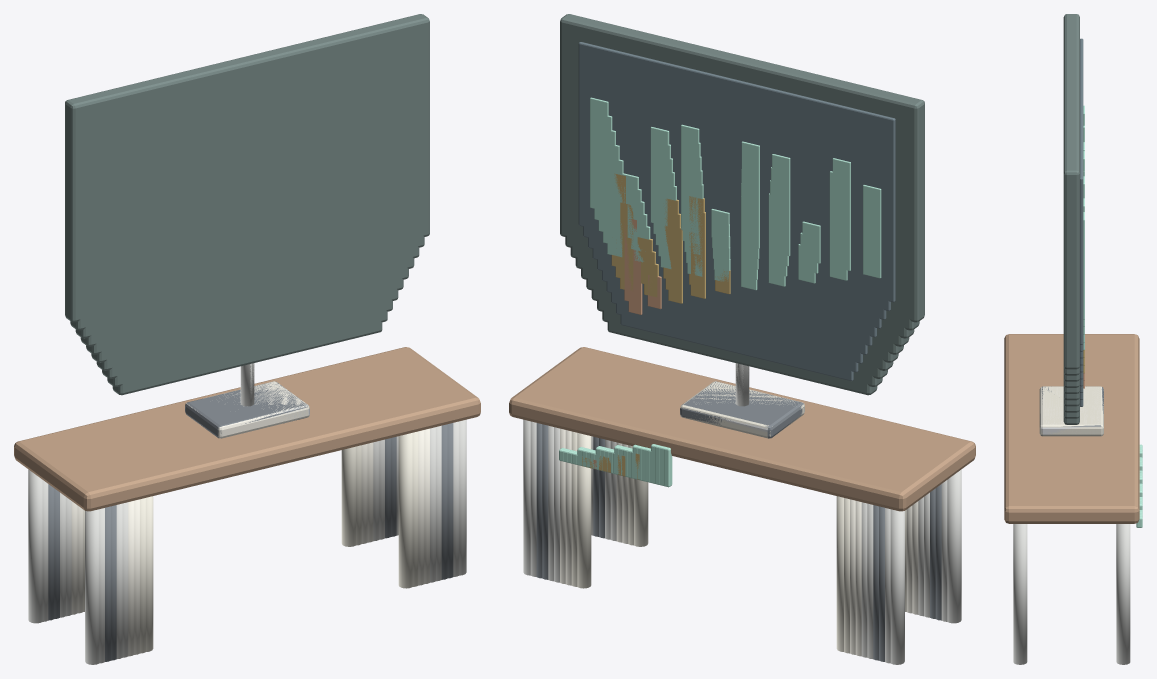
Rendered from Gear04.fbx.
3 renders of one model, left to right at view 1: azimuth 30°, elevation 25°; view 2: azimuth 150°, elevation 25°; view 3: azimuth 270°, elevation 25°, orthographic. The views are drawn at different scales.
Parts seen in each view (by area): view 1: Gear04_V10_Ink, Gear04_V3_Ink, Gear04_V6_Ink, Gear04_V7_Wood, Gear04_V1_Ink, Gear04_V3_Wood, Gear04_V8_Ink, Gear04_V10_Wood, Gear04_V4_Ink, Gear04_V8_Graphite, Gear04_V10_Chrome, Gear04_V7_Ink (+16 smaller); view 2: Gear04_V10_Glass, Gear04_V10_Ink, Gear04_V6_Glass, Gear04_V2_Glass, Gear04_V10_Glow, Gear04_V4_Wood, Gear04_V9_Glass, Gear04_V1_Glass, Gear04_V7_Wood, Gear04_V8_Wood, Gear04_V10_Wood, Gear04_V7_Graphite (+34 smaller); view 3: Gear04_V3_Wood, Gear04_V10_Ink, Gear04_V10_Wood, Gear04_V1_Wood, Gear04_V7_Wood, Gear04_V10_Chrome, Gear04_V2_Wood, Gear04_V6_Wood, Gear04_V4_Wood, Gear04_V5_Wood, Gear04_V9_Wood, Gear04_V2_Ivory (+6 smaller).
Part boxes in pixels (x1=…): Gear04_V10_Ink: x1=65, y1=14, x2=429, y2=322; Gear04_V3_Ink: x1=102, y1=142, x2=392, y2=378; Gear04_V6_Ink: x1=86, y1=121, x2=408, y2=354; Gear04_V7_Wood: x1=37, y1=351, x2=460, y2=503; Gear04_V1_Ink: x1=112, y1=187, x2=382, y2=395; Gear04_V3_Wood: x1=59, y1=366, x2=434, y2=500; Gear04_V8_Ink: x1=75, y1=56, x2=419, y2=338; Gear04_V10_Wood: x1=14, y1=347, x2=480, y2=511; Gear04_V4_Ink: x1=96, y1=125, x2=398, y2=370; Gear04_V8_Graphite: x1=48, y1=381, x2=453, y2=661; Gear04_V10_Chrome: x1=28, y1=366, x2=466, y2=664; Gear04_V7_Ink: x1=80, y1=74, x2=414, y2=346; Gear04_V10_Glass: x1=578, y1=42, x2=895, y2=302; Gear04_V10_Ink: x1=560, y1=14, x2=924, y2=322; Gear04_V6_Glass: x1=597, y1=113, x2=876, y2=337; Gear04_V2_Glass: x1=616, y1=181, x2=858, y2=372; Gear04_V10_Glow: x1=559, y1=97, x2=881, y2=483; Gear04_V4_Wood: x1=546, y1=398, x2=935, y2=502; Gear04_V9_Glass: x1=583, y1=61, x2=890, y2=310; Gear04_V1_Glass: x1=620, y1=197, x2=853, y2=380; Gear04_V7_Wood: x1=529, y1=353, x2=952, y2=505; Gear04_V8_Wood: x1=523, y1=351, x2=958, y2=505; Gear04_V10_Wood: x1=509, y1=347, x2=975, y2=511; Gear04_V7_Graphite: x1=542, y1=381, x2=935, y2=660; Gear04_V3_Wood: x1=1004, y1=352, x2=1139, y2=491; Gear04_V10_Ink: x1=1063, y1=14, x2=1079, y2=369; Gear04_V10_Wood: x1=1004, y1=334, x2=1139, y2=523; Gear04_V1_Wood: x1=1004, y1=357, x2=1139, y2=485; Gear04_V7_Wood: x1=1004, y1=342, x2=1139, y2=498; Gear04_V10_Chrome: x1=1013, y1=524, x2=1130, y2=664; Gear04_V2_Wood: x1=1004, y1=355, x2=1139, y2=485; Gear04_V6_Wood: x1=1004, y1=344, x2=1139, y2=497; Gear04_V4_Wood: x1=1004, y1=350, x2=1139, y2=494; Gear04_V5_Wood: x1=1005, y1=347, x2=1139, y2=493; Gear04_V9_Wood: x1=1004, y1=337, x2=1136, y2=503; Gear04_V2_Ivory: x1=1041, y1=386, x2=1103, y2=436.
Size of the model in its own units: 129 by 167 by 43.02.
